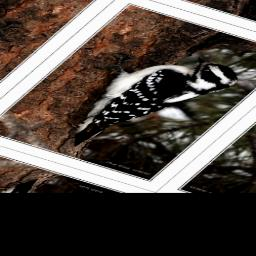Woodpecker: (24, 39, 248, 169)
